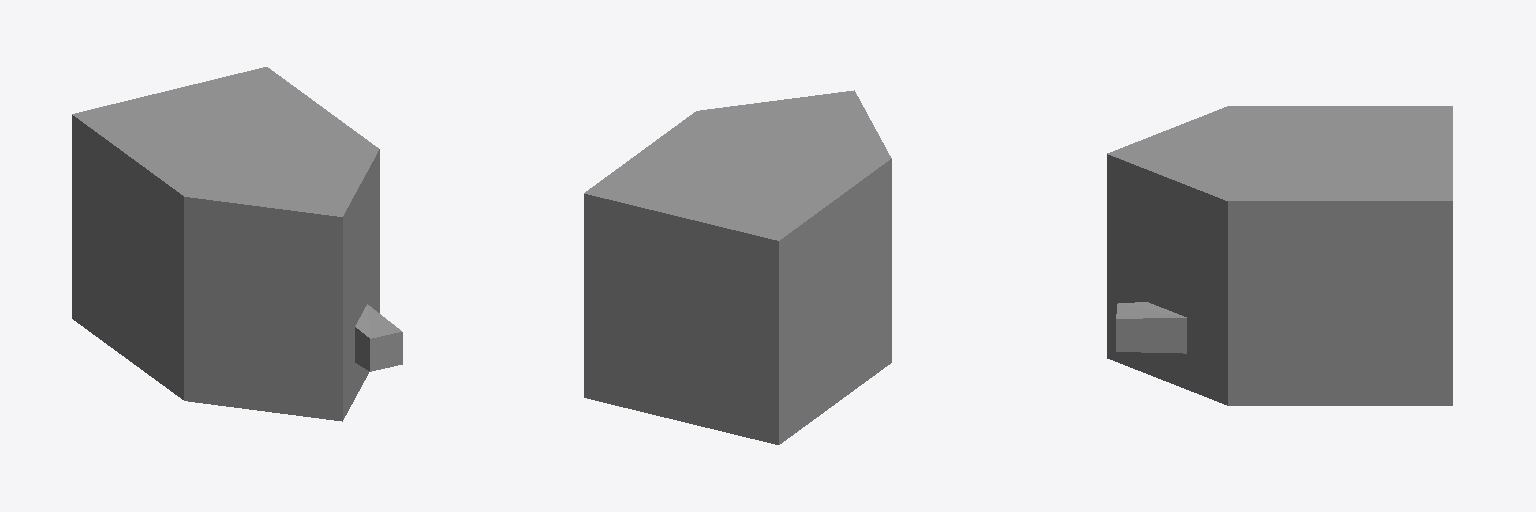
File: sweet_home.obj
3 views of the same model, side by side, from view 1: azimuth 30°, elevation 25°; view 2: azimuth 150°, elevation 25°; view 3: azimuth 270°, elevation 25° (orthographic).
Visible parts, largest first — view 1: Cube; view 2: Cube; view 3: Cube.
Boxes of the visible parts, box(x1,y1,x2,y2) form: Cube: box(72, 67, 402, 421); Cube: box(584, 90, 891, 444); Cube: box(1107, 106, 1452, 405).
Bounding box in the file's own units: 2 × 2 × 3.08.